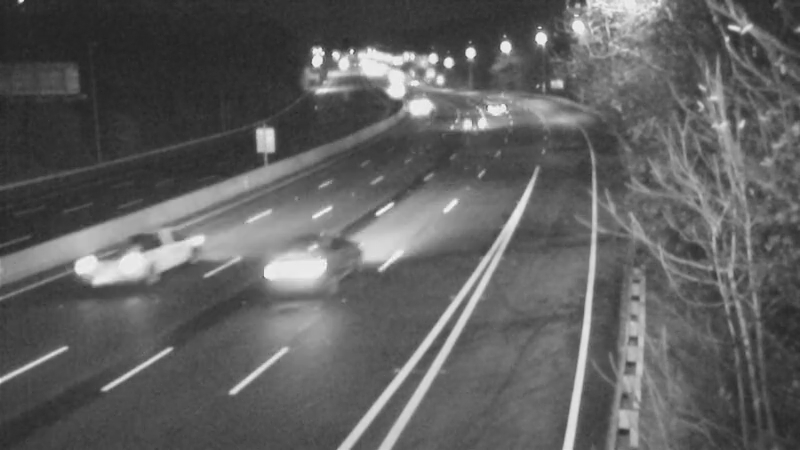vehicle: (260, 229, 340, 309), (76, 219, 156, 299), (370, 65, 420, 115), (396, 82, 446, 132), (469, 81, 519, 131), (442, 100, 492, 150)
